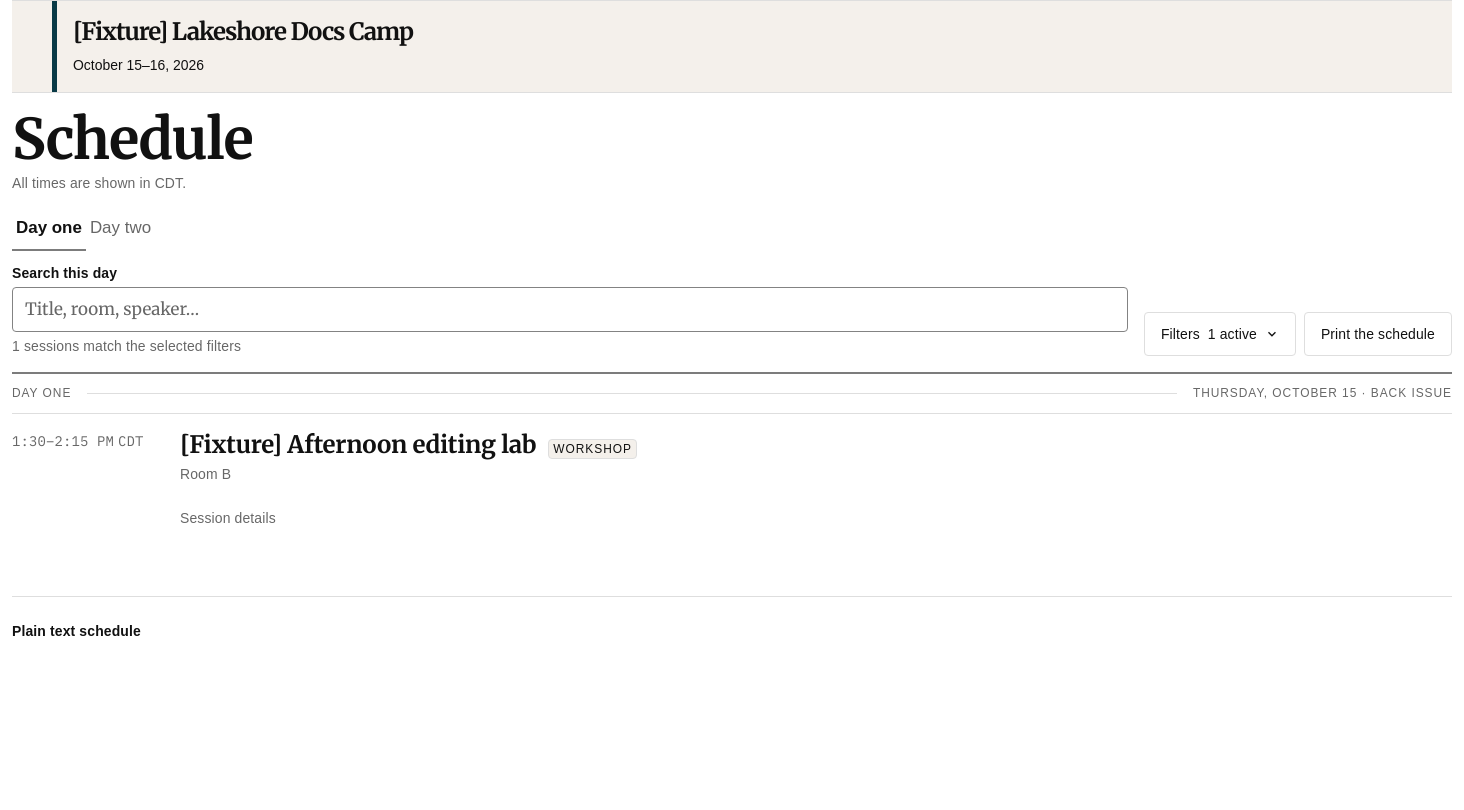
Test: compact program controls › preserves shared-link selections on both sides of the 639/640px breakpoint
Step 1. Click the button "Filters 1 active" → coordinates (1220, 334), box [1144,312,1296,356]
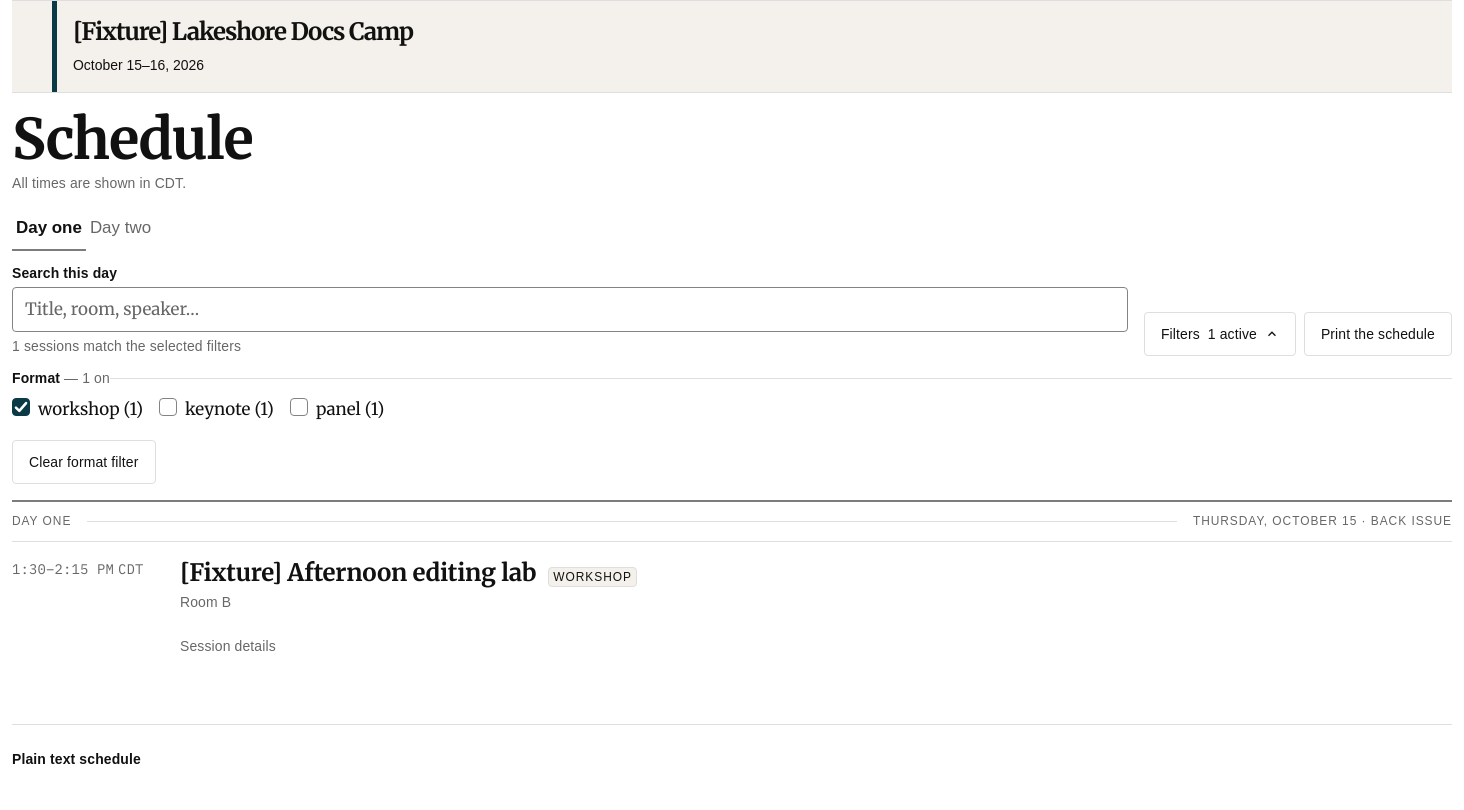
Check: the checkbox labelled "workshop (1)" is checked, box [12,398,30,416]
Check: the button "Filters 1 active" is expanded, box [1144,312,1296,356]
